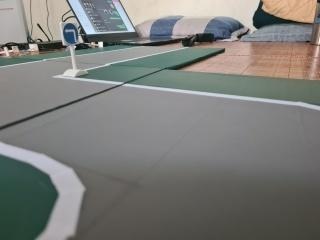left: (59, 21, 81, 47)
